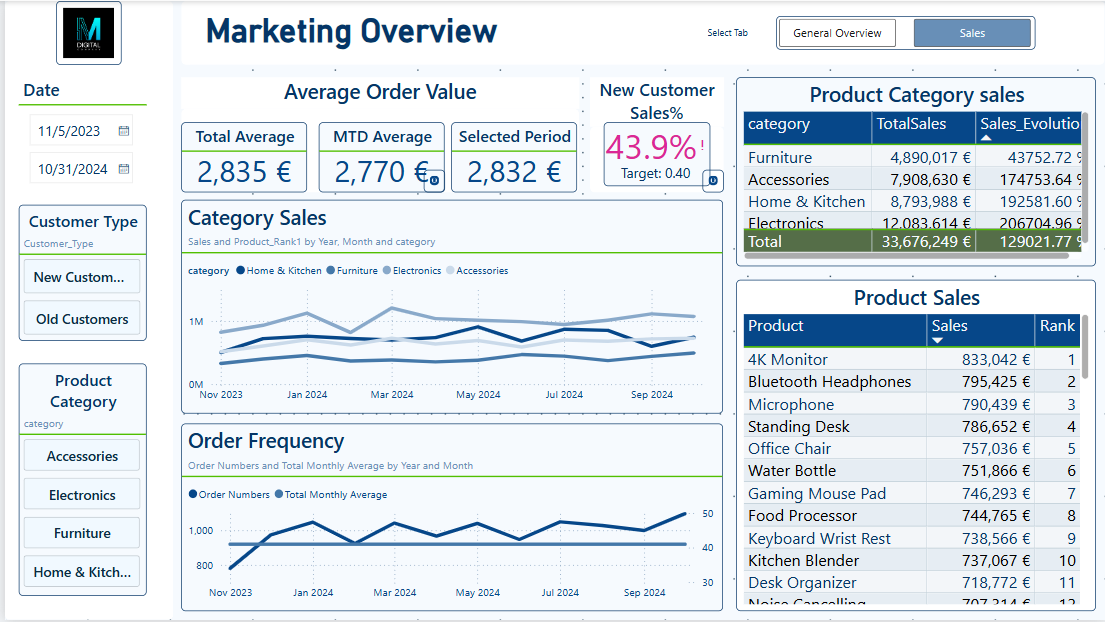

This screenshot's page, from the dashboard's own definition file:
{"tool":"powerbi","page":{"name":"Sales","canvas":[1280,720],"ordinal":1},"visuals":[{"type":"shape","box":[205.7,0,1074.3,74.3],"z":0},{"type":"shape","title":"Average Order Value","box":[205.7,88.6,462.9,134.3],"z":1000,"group":"g1"},{"type":"shape","title":"New Customer Sales%","box":[680.6,88.6,155.7,134.3],"z":1000},{"type":"shape","box":[0,0,195.7,720],"z":2000},{"type":"slicer","title":"Date","fields":{"Values":["orders6.order_date"]},"box":[15.7,88.6,148.6,124.3],"z":3000},{"type":"card","title":"MTD Average","fields":{"Values":["orders6.AOV_MTD"]},"box":[365.4,141.1,146.8,81.8],"z":4000,"group":"g1"},{"type":"lineChart","title":"Order Frequency","fields":{"Category":["orders6.order_date.Variation.Date Hierarchy.Year","orders6.order_date.Variation.Date Hierarchy.Month"],"Y":["CountNonNull(orders6.order_id)"],"Y2":["Min(orders6.Monthly_Average)"]},"box":[205.7,491.4,630,218.6],"z":4000},{"type":"textbox","box":[228.6,7.1,361.4,58.6],"z":5000},{"type":"card","title":"Total Average","fields":{"Values":["orders6.Total_AOV"]},"box":[205.7,141.1,146.8,81.8],"z":5000,"group":"g1"},{"type":"pageNavigator","box":[897.2,17.2,301.5,39.4],"z":6000},{"type":"card","title":"Selected Period","fields":{"Values":["orders6.AOV_Selected_Period"]},"box":[520.2,141.1,146.8,81.8],"z":6000,"group":"g1"},{"type":"tableEx","title":"Product Category sales","fields":{"Values":["products4.category","orders6.TotalSales","orders6.Sales_Evolution"]},"box":[851.4,88.6,418.6,220],"z":7000},{"type":"tableEx","title":"Product Sales","fields":{"Values":["products4.product_name","order_items7.Supplier_Sales","products4.Product_Rank1"]},"box":[851.4,324.3,418.6,385.7],"z":8000},{"type":"lineChart","title":"Category Sales","fields":{"Y":["order_items7.Supplier_Sales"],"Category":["orders6.order_date.Variation.Date Hierarchy.Year","orders6.order_date.Variation.Date Hierarchy.Month"],"Series":["products4.category"]},"box":[205.7,231.4,630,248.6],"z":9000},{"type":"image","box":[60,0,75.7,74.3],"z":10000},{"type":"group","id":"g1","title":"Group 1","box":[205.7,88.6,462.9,134.3],"z":11000},{"type":"advancedSlicerVisual","title":"Customer Type","fields":{"Values":["orders6.Customer_Type"]},"box":[15.7,237.1,148.6,158.6],"z":12000},{"type":"advancedSlicerVisual","title":"Product Category","fields":{"Values":["products4.category"]},"box":[15.7,421.4,148.6,270],"z":13000},{"type":"kpi","title":"New Customer Sales%","fields":{"Indicator":["order_items7.New_Customer_Sales_Ratio"],"TrendLine":["orders6.YearMonth"],"Goal":["all measures.New_customers_sales%_goal"]},"box":[696.6,141,123.9,74.3],"z":14000},{"type":"textbox","box":[817.2,25.8,59.1,22.2],"z":15000},{"type":"actionButton","box":[811.1,196.2,25,26.4],"z":15001},{"type":"actionButton","box":[487,196.2,25,26.4],"z":15002}]}

Visuals, with their boxes in screenshot pixels (x1, y1, x2, y2), scaled from the page's 1280x720 canvas onto the 1105x622 screenshot:
shape: {"left": 178, "top": 0, "right": 1104, "bottom": 64}
"Average Order Value" shape: {"left": 178, "top": 77, "right": 577, "bottom": 193}
"New Customer Sales%" shape: {"left": 588, "top": 77, "right": 722, "bottom": 193}
shape: {"left": 0, "top": 0, "right": 169, "bottom": 621}
"Date" slicer: {"left": 14, "top": 77, "right": 142, "bottom": 184}
"MTD Average" card: {"left": 315, "top": 122, "right": 442, "bottom": 193}
"Order Frequency" lineChart: {"left": 178, "top": 425, "right": 721, "bottom": 613}
textbox: {"left": 197, "top": 6, "right": 509, "bottom": 57}
"Total Average" card: {"left": 178, "top": 122, "right": 304, "bottom": 193}
pageNavigator: {"left": 775, "top": 15, "right": 1035, "bottom": 49}
"Selected Period" card: {"left": 449, "top": 122, "right": 576, "bottom": 193}
"Product Category sales" tableEx: {"left": 735, "top": 77, "right": 1096, "bottom": 267}
"Product Sales" tableEx: {"left": 735, "top": 280, "right": 1096, "bottom": 613}
"Category Sales" lineChart: {"left": 178, "top": 200, "right": 721, "bottom": 415}
image: {"left": 52, "top": 0, "right": 117, "bottom": 64}
"Group 1" group: {"left": 178, "top": 77, "right": 577, "bottom": 193}
"Customer Type" advancedSlicerVisual: {"left": 14, "top": 205, "right": 142, "bottom": 342}
"Product Category" advancedSlicerVisual: {"left": 14, "top": 364, "right": 142, "bottom": 597}
"New Customer Sales%" kpi: {"left": 601, "top": 122, "right": 708, "bottom": 186}
textbox: {"left": 705, "top": 22, "right": 756, "bottom": 41}
actionButton: {"left": 700, "top": 169, "right": 722, "bottom": 192}
actionButton: {"left": 420, "top": 169, "right": 442, "bottom": 192}
